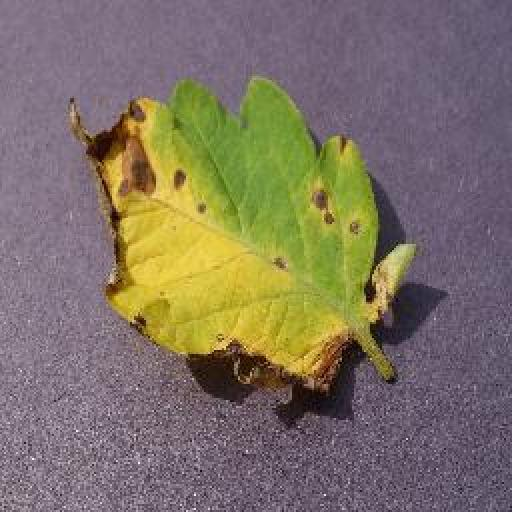Septoria: (74, 76, 424, 400)
